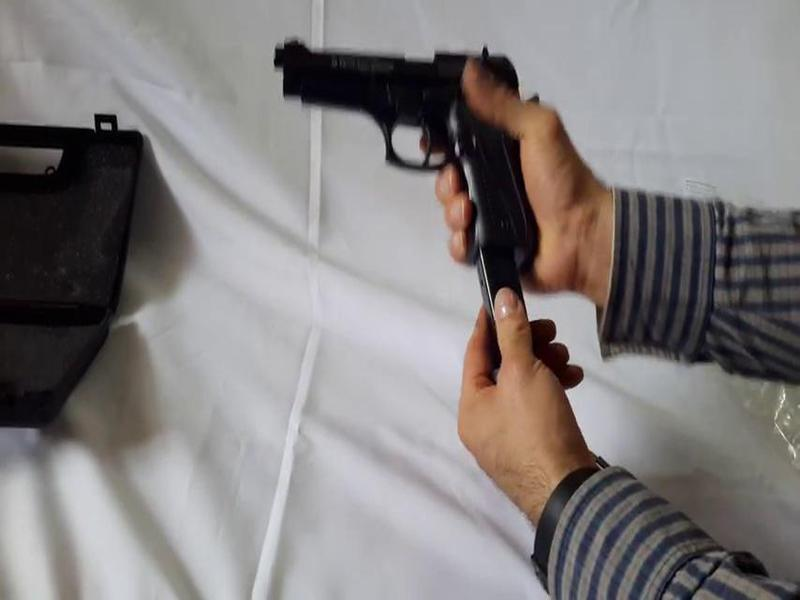Pistola: (240, 37, 551, 283)
